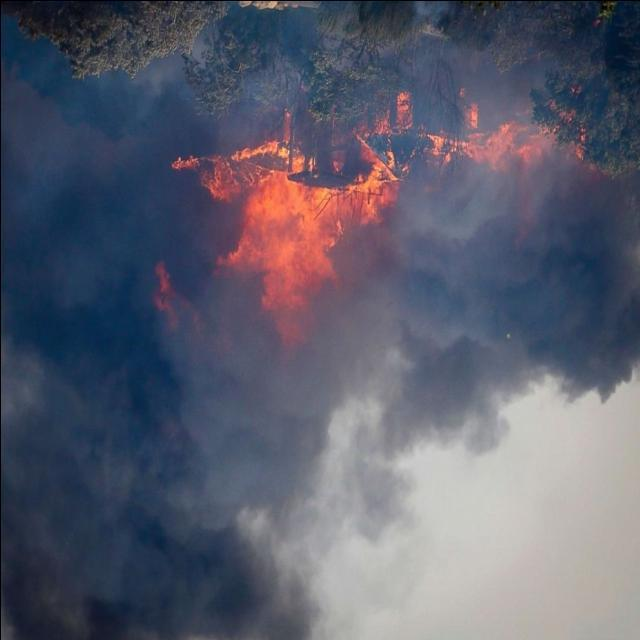Fire: (140, 128, 406, 360), (426, 118, 574, 186)
